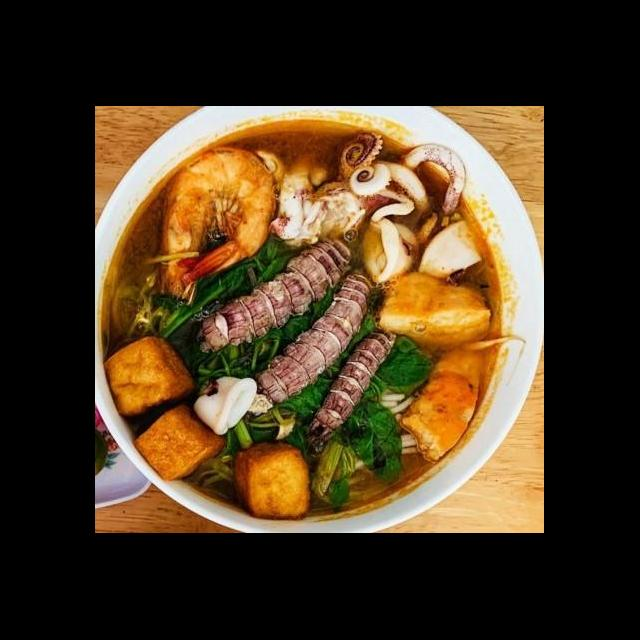bun: (206, 162, 294, 252)
bun hai san: (100, 139, 544, 521)
dau hu: (150, 172, 240, 300), (146, 288, 268, 372), (442, 216, 540, 308), (414, 150, 510, 236), (322, 114, 410, 204)
muc: (166, 408, 306, 512), (304, 384, 376, 494), (216, 352, 284, 427), (152, 356, 224, 424), (380, 200, 450, 268)
tom: (359, 330, 484, 497)
tom tit: (258, 220, 401, 380), (280, 281, 452, 408), (240, 180, 342, 318)
